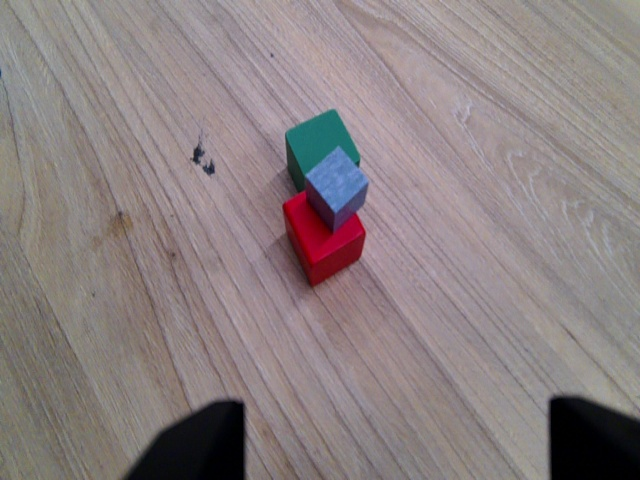stone: (299, 141, 375, 239)
